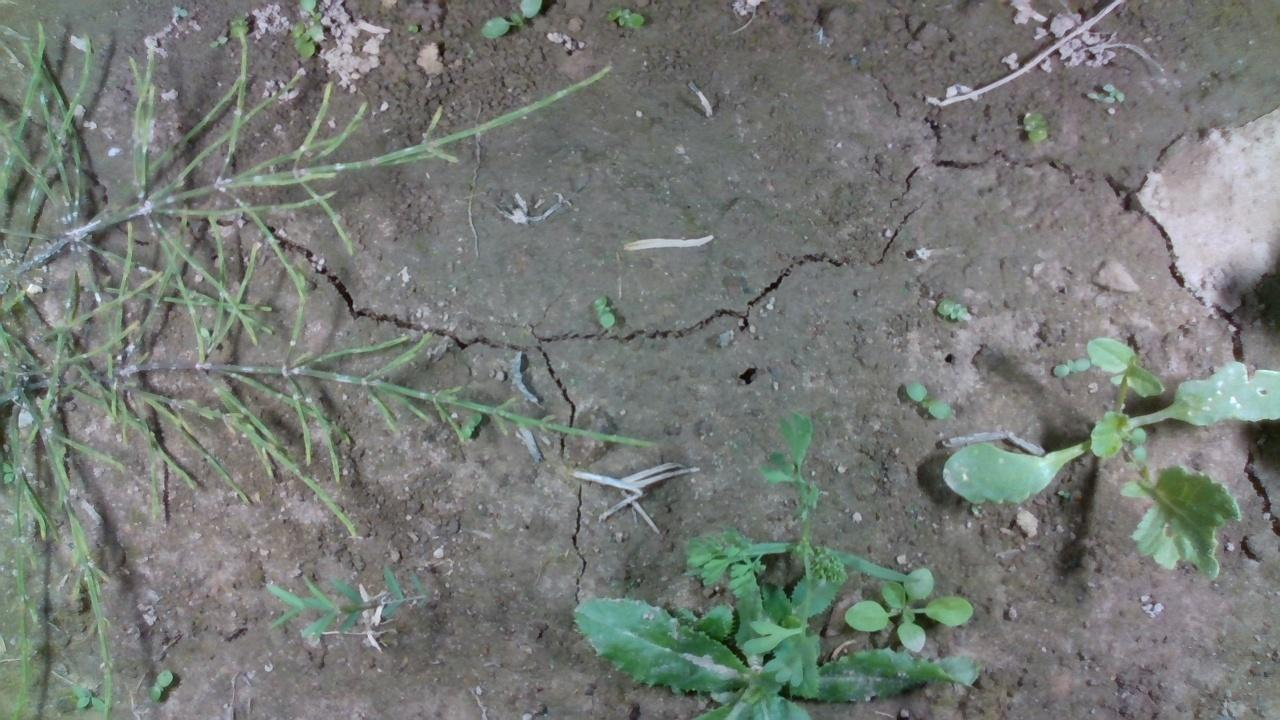weed: (931, 288, 984, 336), (900, 379, 955, 424), (583, 287, 631, 335), (1088, 80, 1132, 120), (1057, 350, 1078, 378)
